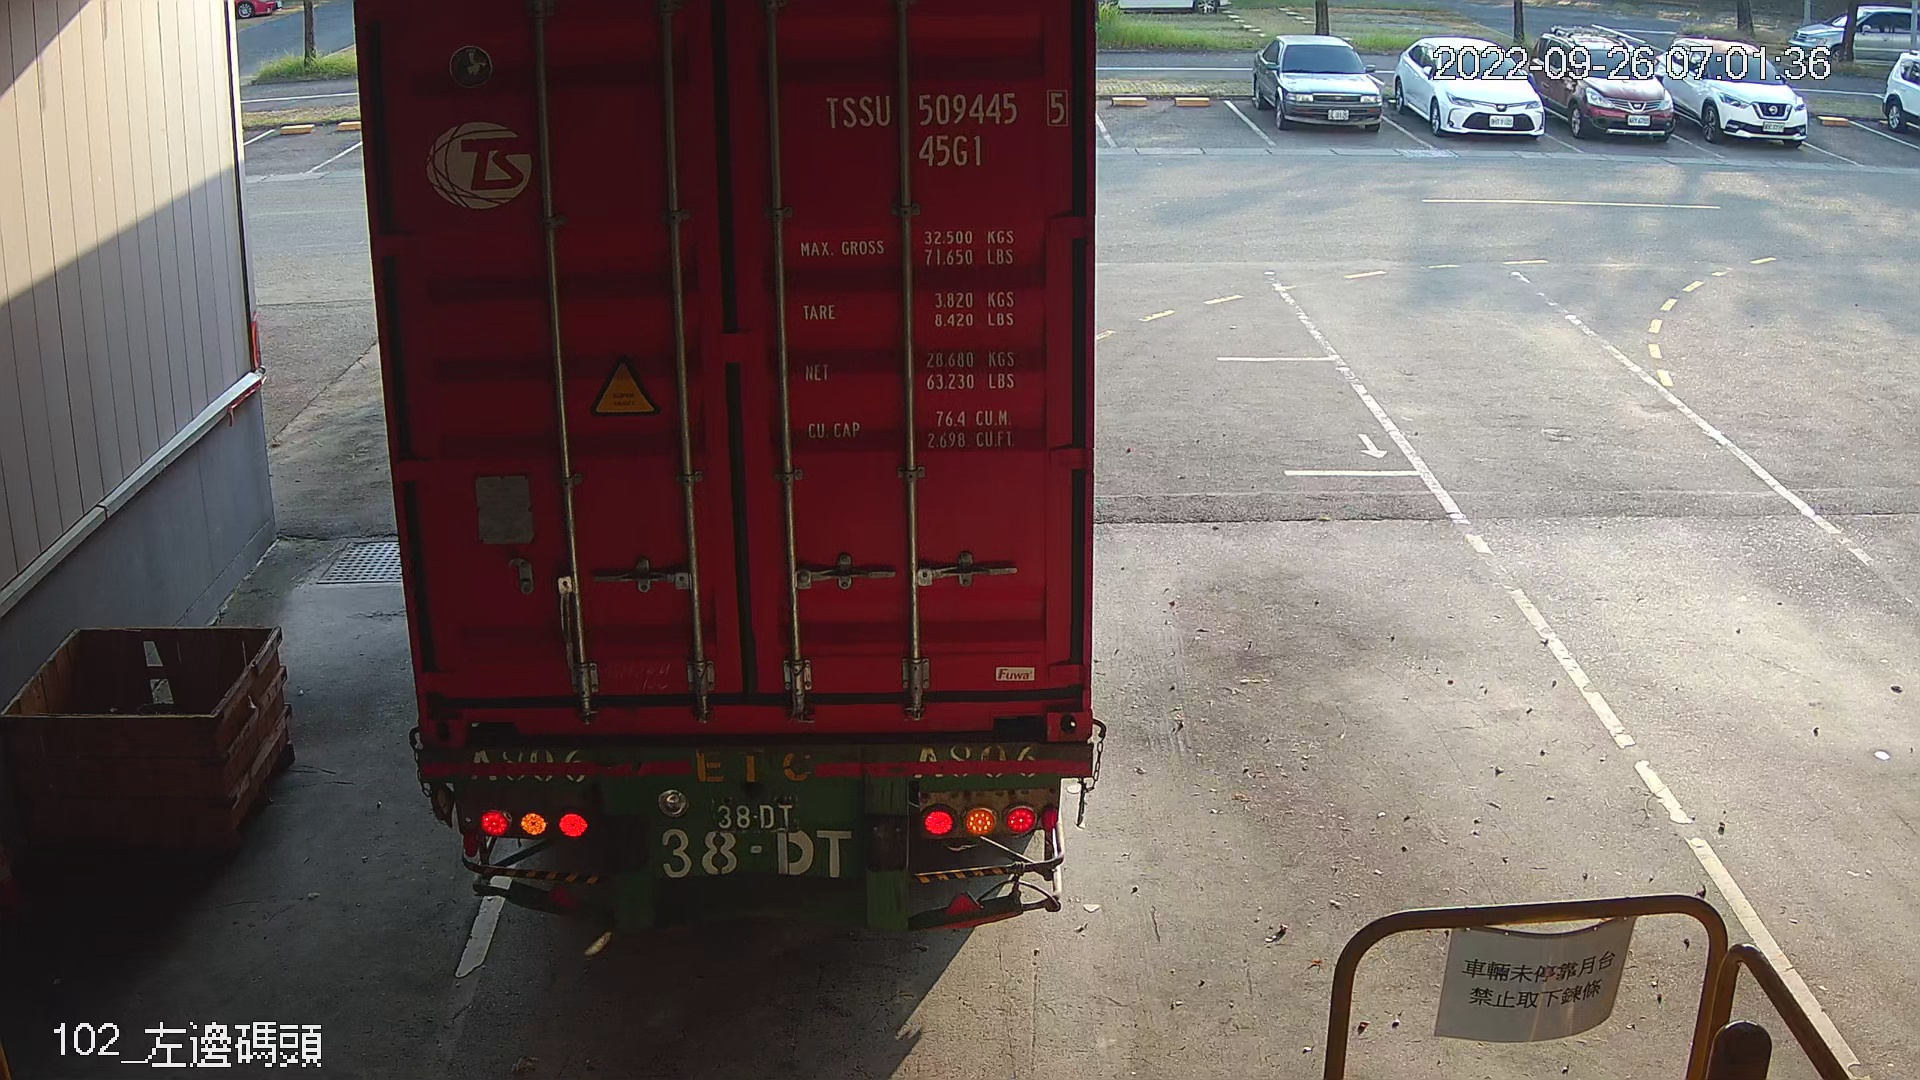container: (814, 83, 1079, 173)
